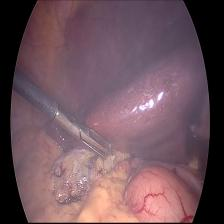Grasper: (50, 91, 116, 168)
